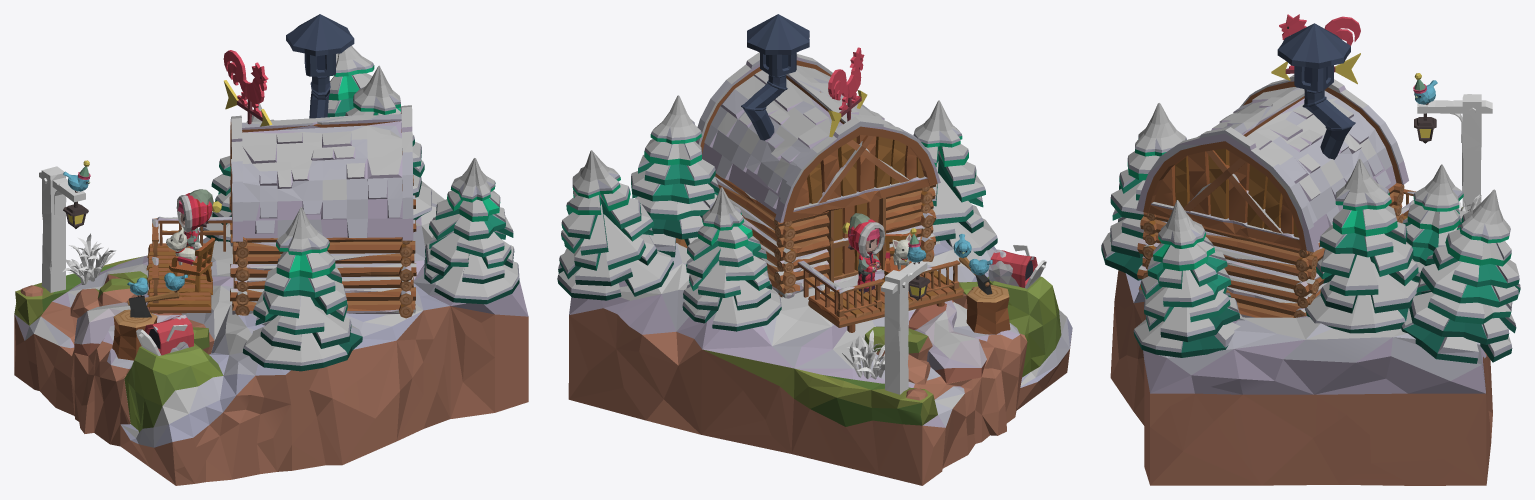
File: 0073_MorningAtTheMountainCabin.fbx
3 renders of one model, left to right at view 1: azimuth 30°, elevation 25°; view 2: azimuth 150°, elevation 25°; view 3: azimuth 270°, elevation 25°, orthographic. The views are drawn at different scales.
Visible parts, largest first — view 1: land_02, land_01, Roof, wood06, Chimneys, Pole, wood002, Leaf07, Leaf035, Weathervane, Leaf06, Rock03 (+23 smaller); view 2: land_01, Roof, land_02, wood03, Chimneys, Rock03, Pole, wood05 (×2), door, Leaf021, wood2 (×2), wood06 (+37 smaller); view 3: land_01, Roof, wood03, wood06 (×3), Chimneys, land_02, Pole, wood002, Leaf028, Leaf020, Leaf018, Leaf021 (+29 smaller).
Part boxes in pixels (box(x1,y1,x2,y2)): land_02: box(120, 283, 450, 485); land_01: box(14, 183, 528, 446); Roof: box(230, 105, 413, 241); wood06: box(230, 237, 416, 277); Chimneys: box(286, 14, 354, 118); Pole: box(39, 166, 85, 292); wood002: box(230, 276, 415, 314); Leaf07: box(242, 320, 362, 371); Leaf035: box(424, 257, 519, 304); Weathervane: box(223, 50, 272, 126); Leaf06: box(255, 306, 351, 350); Rock03: box(74, 302, 182, 356); land_01: box(568, 243, 1027, 485); Roof: box(695, 52, 940, 222); land_02: box(922, 240, 1072, 410); wood03: box(794, 135, 924, 207); Chimneys: box(741, 14, 809, 140); Rock03: box(908, 300, 986, 383); Pole: box(881, 261, 927, 394); wood05 (×2): box(774, 184, 936, 260); door: box(827, 197, 886, 282); Leaf021: box(557, 248, 673, 300); wood2 (×2): box(791, 176, 929, 321); wood06: box(715, 171, 796, 263); land_01: box(1143, 207, 1492, 485); Roof: box(1136, 75, 1408, 252); wood03: box(1154, 148, 1298, 237); wood06 (×3): box(1137, 185, 1404, 297); Chimneys: box(1277, 23, 1355, 159); land_02: box(1110, 270, 1145, 425); Pole: box(1417, 94, 1492, 211); wood002: box(1137, 256, 1315, 317); Leaf028: box(1304, 282, 1418, 333); Leaf020: box(1409, 290, 1516, 344); Leaf018: box(1420, 255, 1520, 307); Leaf021: box(1401, 308, 1512, 363).
Bounding box in the file's own units: 17.18 × 15.44 × 14.95.
